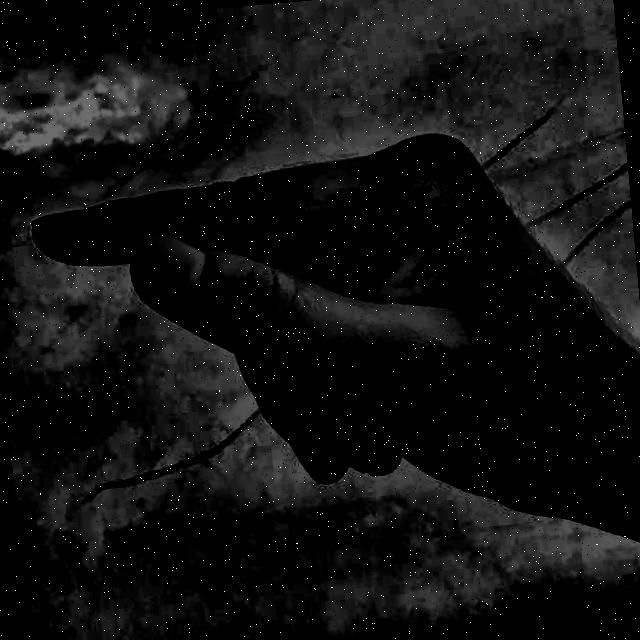Tha: (4, 56, 640, 629)
